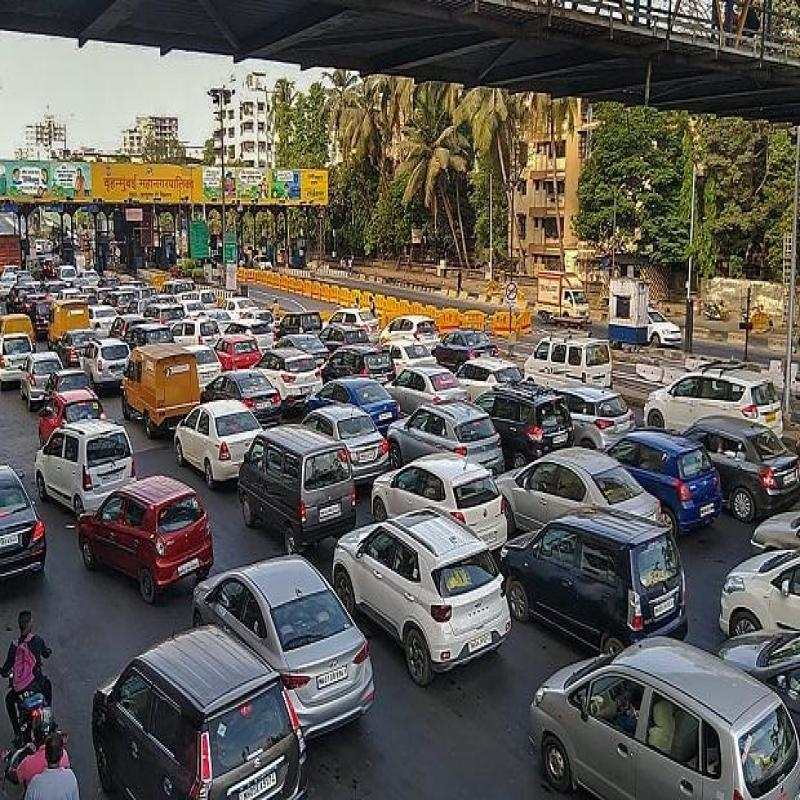car: (543, 626, 748, 800), (100, 621, 293, 800), (526, 497, 686, 653), (349, 511, 499, 669), (221, 557, 354, 708), (81, 466, 213, 595), (516, 420, 644, 540), (614, 416, 733, 536), (248, 424, 352, 558), (368, 452, 504, 551), (640, 362, 778, 434), (714, 543, 800, 649), (44, 409, 117, 506), (181, 400, 259, 489), (125, 340, 194, 422), (531, 327, 613, 396), (40, 392, 104, 434), (93, 335, 127, 396)
